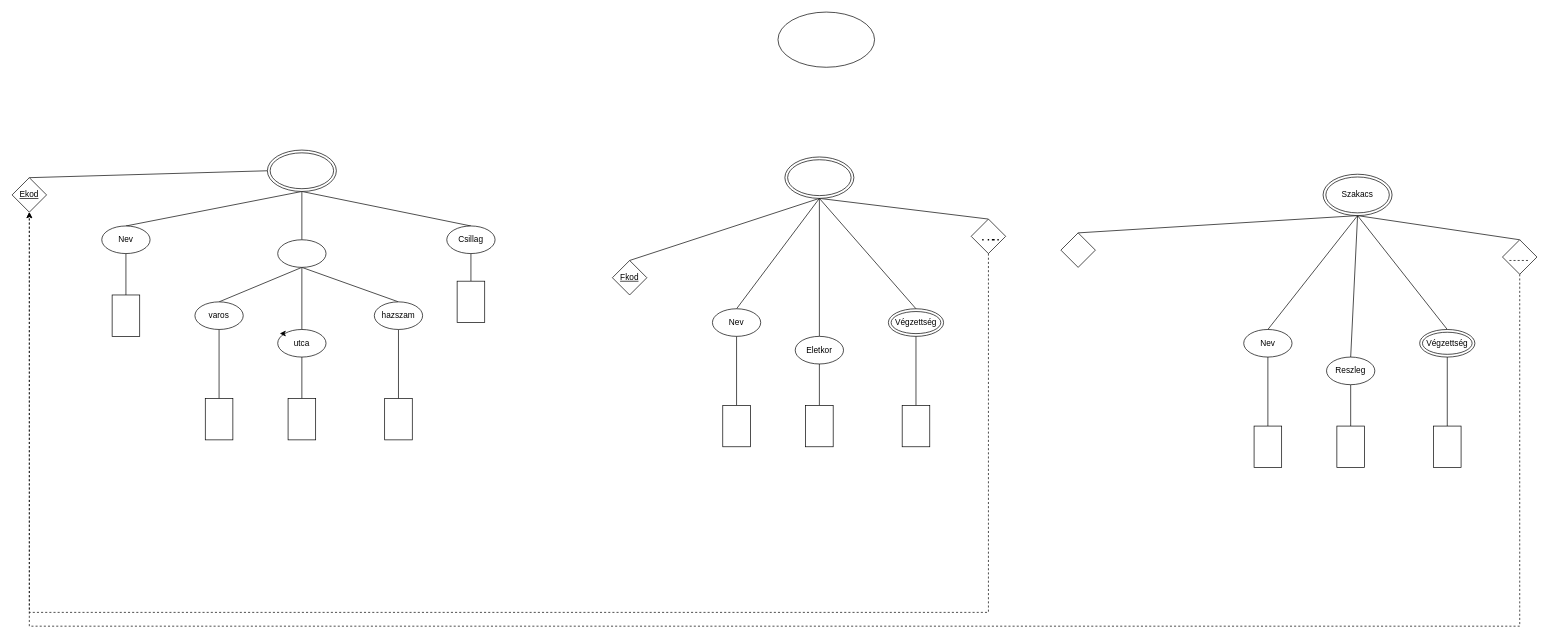
Some shapes in this 1549 by 644 pixel diagram are drawn without their labels. The box of each missing label's shape, as (x1, y1, x2, y2) in pixels:
Cim: (277, 239, 326, 267)
E_F: (970, 218, 1006, 254)
Etterem: (267, 149, 336, 191)
Foszakacs: (784, 156, 854, 198)
SZ_K: (1502, 239, 1537, 274)
Szkod: (1060, 232, 1095, 267)
ZVPGTZ_vendeglatas: (777, 11, 875, 67)
